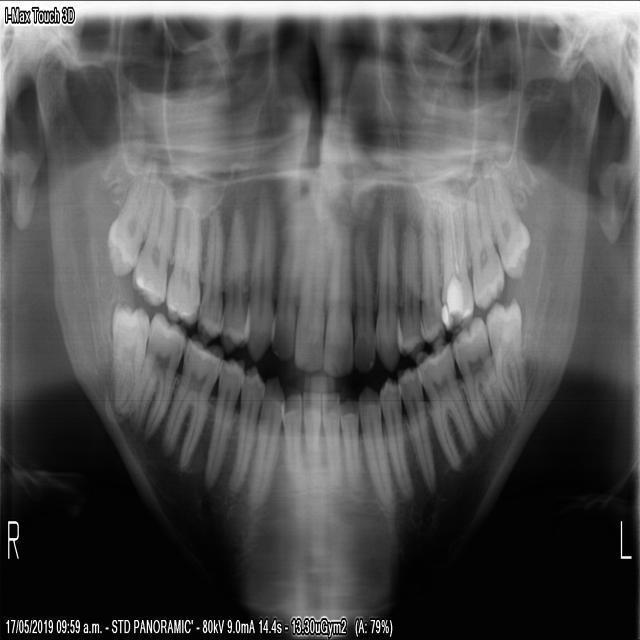LCD: (354, 380, 393, 518)
LCU: (371, 198, 401, 372)
LID: (335, 392, 358, 502), (318, 388, 340, 502)
LIU: (320, 212, 351, 376), (351, 227, 374, 373)
LMD: (413, 333, 475, 470), (449, 313, 504, 437), (482, 291, 525, 412)
LMU: (465, 171, 503, 310), (437, 189, 471, 332), (488, 169, 530, 278)
LPMD: (394, 362, 435, 496), (376, 373, 411, 502)
LPMU: (393, 210, 423, 362), (416, 204, 443, 344)
RCD: (245, 370, 284, 508)
RCU: (240, 187, 275, 363)
RID: (277, 386, 302, 516), (299, 387, 319, 504)
RIU: (289, 197, 324, 372), (266, 202, 300, 364)
RMD: (162, 329, 223, 470), (131, 308, 186, 438), (109, 296, 148, 425)
RMU: (103, 154, 158, 277), (128, 168, 172, 307), (163, 181, 200, 327)
RPMD: (200, 352, 243, 489), (223, 362, 264, 492)
RPMU: (214, 207, 250, 354), (193, 202, 222, 346)
